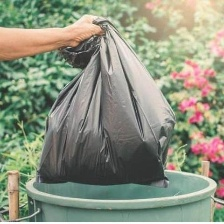plastic_bag: (26, 12, 179, 190)
